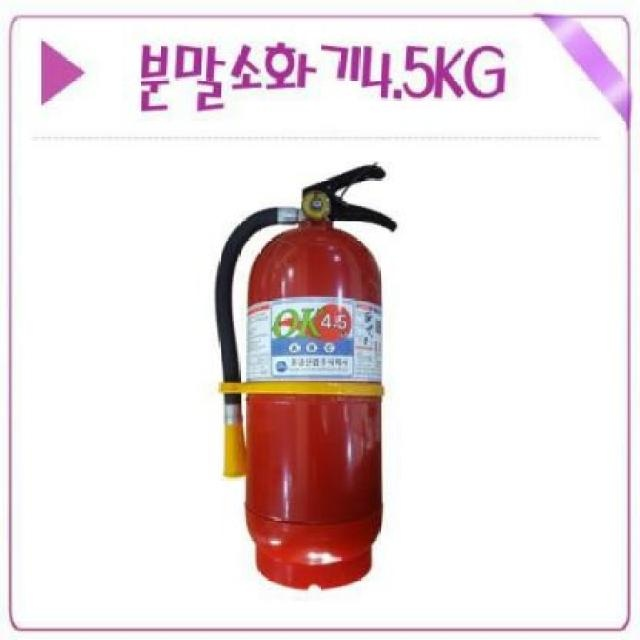fire extinguisher: (214, 165, 398, 591)
